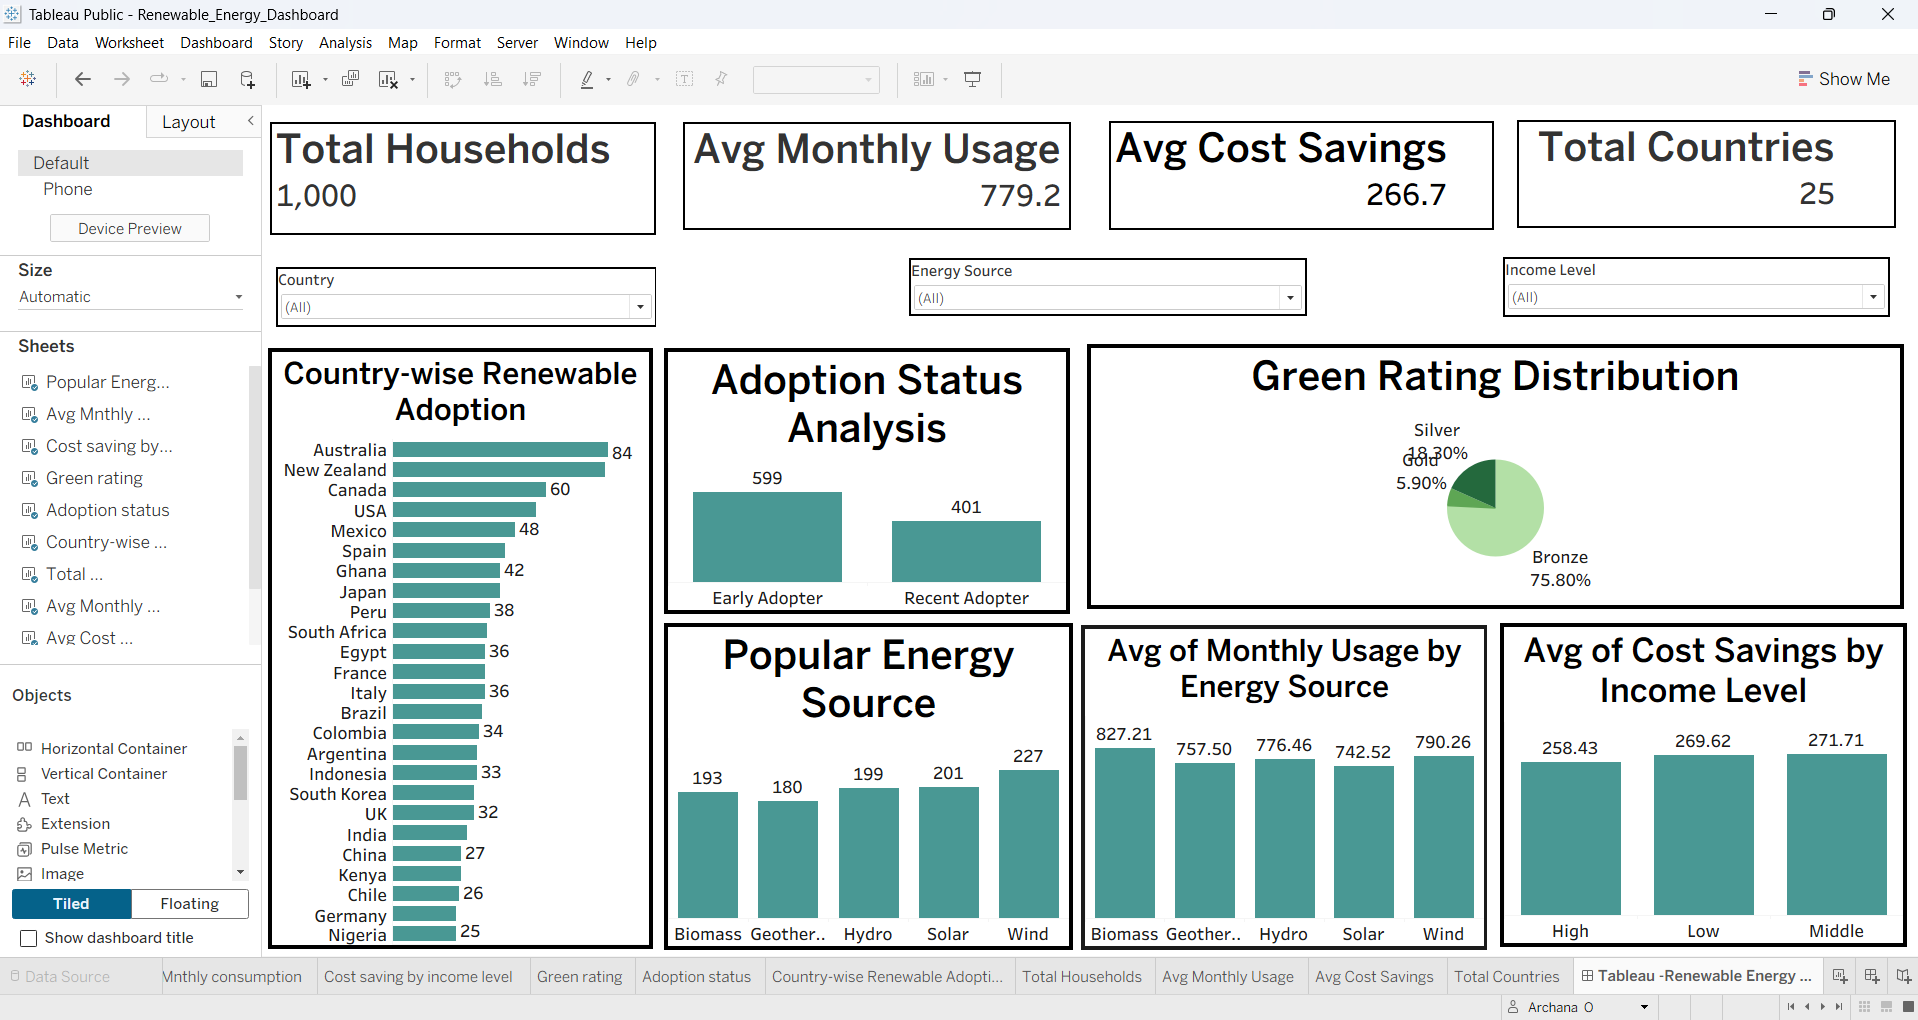

The dashboard page shown, as its layout file describes it:
{"tool":"tableau","page":{"name":"Tableau -Renewable Energy Consumption Dashboard","canvas":[1000,1000],"units":"permille","ordinal":0},"visuals":[{"type":"worksheet","title":"Total Countries","mark":"Automatic","box":[757.5,17.6,228.5,126.9]},{"type":"worksheet","title":"Avg Cost Savings","mark":"Automatic","box":[511.4,18.8,232.6,128.1]},{"type":"worksheet","title":"Total Households","mark":"Automatic","box":[4.8,20,233,132.8]},{"type":"worksheet","title":"Avg Monthly Usage","mark":"Automatic","box":[254.2,20,234.3,126.9]},{"type":"filter","title":"Popular Energy Source","param":"[federated.09f5ftf1s4qefv1c4zmii069hnsh].[none:INCOME_LEVEL:nk]","box":[748.7,178.6,233.7,70.5]},{"type":"filter","title":"Popular Energy Source","param":"[federated.09f5ftf1s4qefv1c4zmii069hnsh].[none:ENERGY_SOURCE:nk]","box":[390.7,179.8,240.2,68.2]},{"type":"filter","title":"Popular Energy Source","param":"[federated.09f5ftf1s4qefv1c4zmii069hnsh].[none:COUNTRY:nk]","box":[8.2,190.4,229.6,70.5]},{"type":"worksheet","title":"Green rating","mark":"Pie","box":[497.9,280.9,493.3,311.4]},{"type":"worksheet","title":"Country-wise Renewable Adoption","mark":"Automatic","rows":["COUNTRY"],"cols":["HOUSEHOLD_ID"],"box":[3.5,285.6,232.6,706.2]},{"type":"worksheet","title":"Adoption status","mark":"Automatic","rows":["HOUSEHOLD_ID"],"cols":["ADOPTION_STATUS"],"box":[242.6,285.6,244.9,312.6]},{"type":"worksheet","title":"Popular Energy Source","mark":"Automatic","rows":["HOUSEHOLD_ID"],"cols":["ENERGY_SOURCE"],"box":[242.6,608.7,246.7,384.2]},{"type":"worksheet","title":"Cost saving by income level","mark":"Automatic","rows":["COST_SAVINGS_USD"],"cols":["INCOME_LEVEL"],"box":[747.3,608.7,245.5,380.7]},{"type":"worksheet","title":"Avg Mnthly consumption","mark":"Automatic","rows":["MONTHLY_USAGE_KWH"],"cols":["ENERGY_SOURCE"],"box":[494,611.1,245.5,381.9]}]}

Visuals, with their boxes on the dashboard's canvas, which has no fixed pixel size, in thousandths of its width and height (x1, y1, x2, y2). These are canvas units, not pixel positions in the 1918x1020 screenshot, which may show the page scaled, cropped or inside an application window:
"Total Countries" worksheet: <region>758, 18, 986, 144</region>
"Avg Cost Savings" worksheet: <region>511, 19, 744, 147</region>
"Total Households" worksheet: <region>5, 20, 238, 153</region>
"Avg Monthly Usage" worksheet: <region>254, 20, 488, 147</region>
"Popular Energy Source" filter: <region>749, 179, 982, 249</region>
"Popular Energy Source" filter: <region>391, 180, 631, 248</region>
"Popular Energy Source" filter: <region>8, 190, 238, 261</region>
"Green rating" worksheet (Pie marks): <region>498, 281, 991, 592</region>
"Country-wise Renewable Adoption" worksheet: <region>4, 286, 236, 992</region>
"Adoption status" worksheet: <region>243, 286, 488, 598</region>
"Popular Energy Source" worksheet: <region>243, 609, 489, 993</region>
"Cost saving by income level" worksheet: <region>747, 609, 993, 989</region>
"Avg Mnthly consumption" worksheet: <region>494, 611, 740, 993</region>
